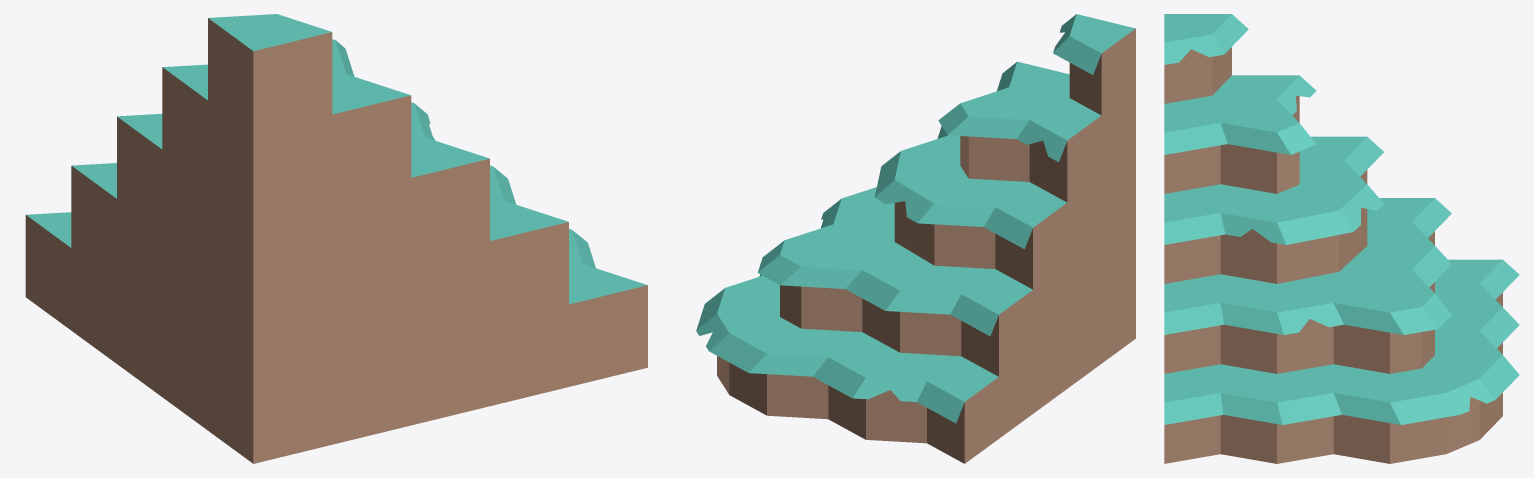
Rendered from cliff_stepsCorner_rock.glb.
3 views of the same model, side by side, from view 1: azimuth 30°, elevation 25°; view 2: azimuth 150°, elevation 25°; view 3: azimuth 270°, elevation 25° (orthographic). The views are drawn at different scales.
Parts seen in each view (by area): view 1: cliff_stepsCorner_rock; view 2: cliff_stepsCorner_rock; view 3: cliff_stepsCorner_rock.
Boxes of the visible parts, bbox=[...] form: cliff_stepsCorner_rock: bbox=[25, 14, 647, 463]; cliff_stepsCorner_rock: bbox=[696, 14, 1135, 463]; cliff_stepsCorner_rock: bbox=[1164, 14, 1519, 463].
Size of the model in its own units: 1.05 by 1 by 1.05.
